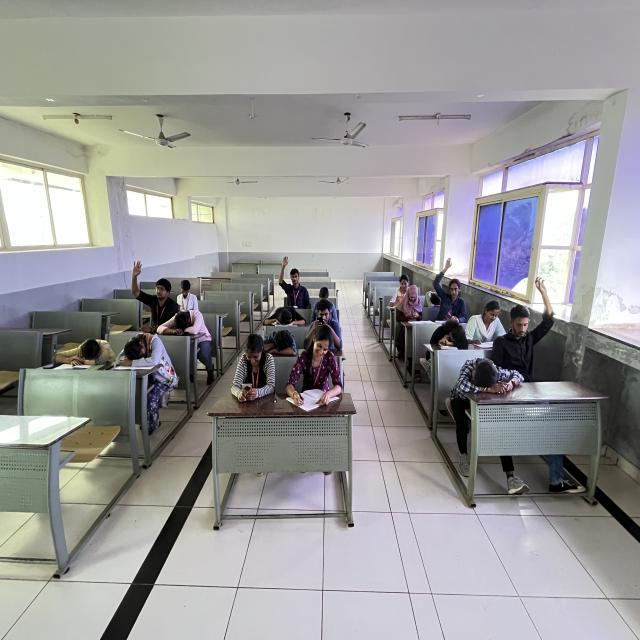Hand Rising: (492, 269, 552, 369), (434, 254, 463, 318), (278, 250, 306, 308)
Reading: (466, 301, 510, 350)
Sleeping: (116, 327, 178, 391), (450, 352, 524, 403), (47, 330, 122, 378), (157, 306, 217, 344), (261, 300, 310, 337), (426, 315, 472, 354), (257, 327, 299, 361)
Using Phone: (228, 332, 280, 406), (126, 254, 170, 330), (308, 299, 342, 334), (398, 283, 422, 324)
Writing: (284, 323, 343, 412)
